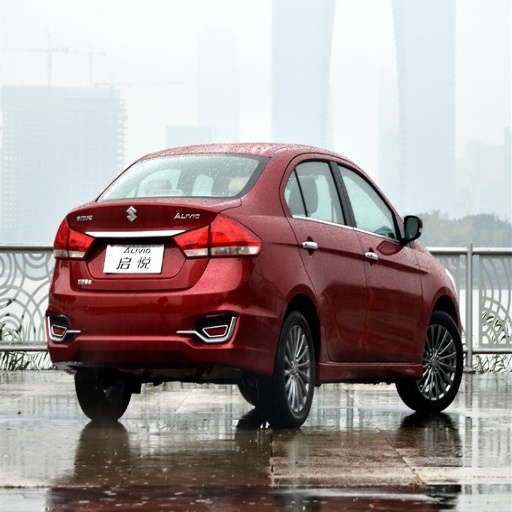back_bumper: (46, 258, 286, 368)
back_right_door: (284, 154, 368, 359)
